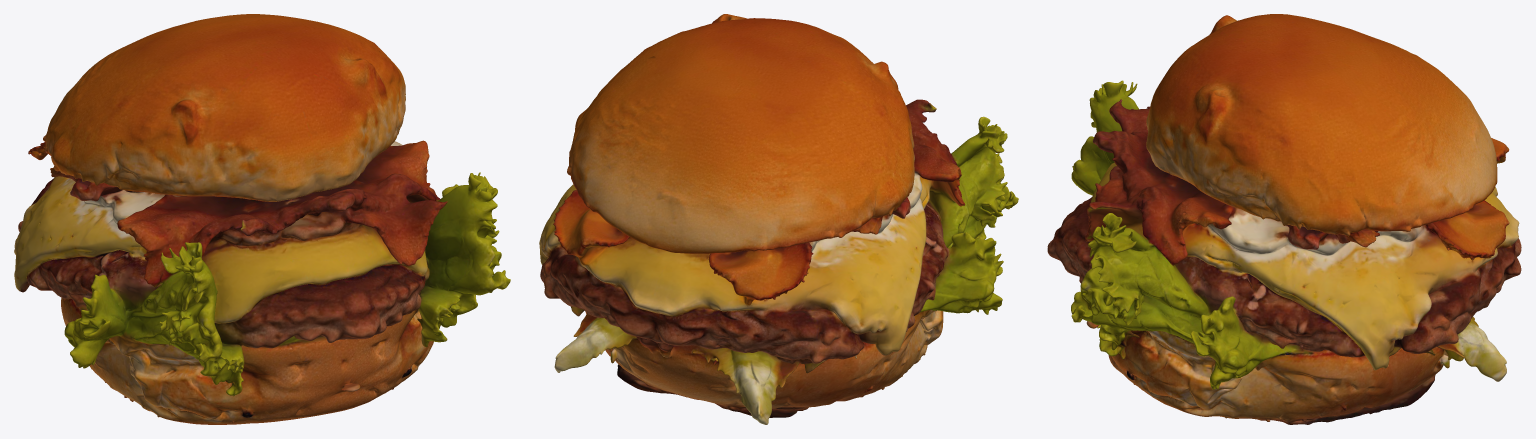
Rendered from smash-salada.glb.
3 renders of one model, left to right at view 1: azimuth 30°, elevation 25°; view 2: azimuth 150°, elevation 25°; view 3: azimuth 270°, elevation 25°, orthographic. The views are drawn at different scales.
Parts seen in each view (by area): view 1: tripo_node_8ba567fc-6045-48fd-9166-c0d7288dd9a7; view 2: tripo_node_8ba567fc-6045-48fd-9166-c0d7288dd9a7; view 3: tripo_node_8ba567fc-6045-48fd-9166-c0d7288dd9a7.
Part boxes in pixels (x1,y1,x2,y2): tripo_node_8ba567fc-6045-48fd-9166-c0d7288dd9a7: [14, 14, 510, 424]; tripo_node_8ba567fc-6045-48fd-9166-c0d7288dd9a7: [539, 14, 1018, 424]; tripo_node_8ba567fc-6045-48fd-9166-c0d7288dd9a7: [1047, 14, 1521, 424].
Bounding box in the file's own units: 0.12 × 0.0882 × 0.1171.
1 material, 1 textured.
